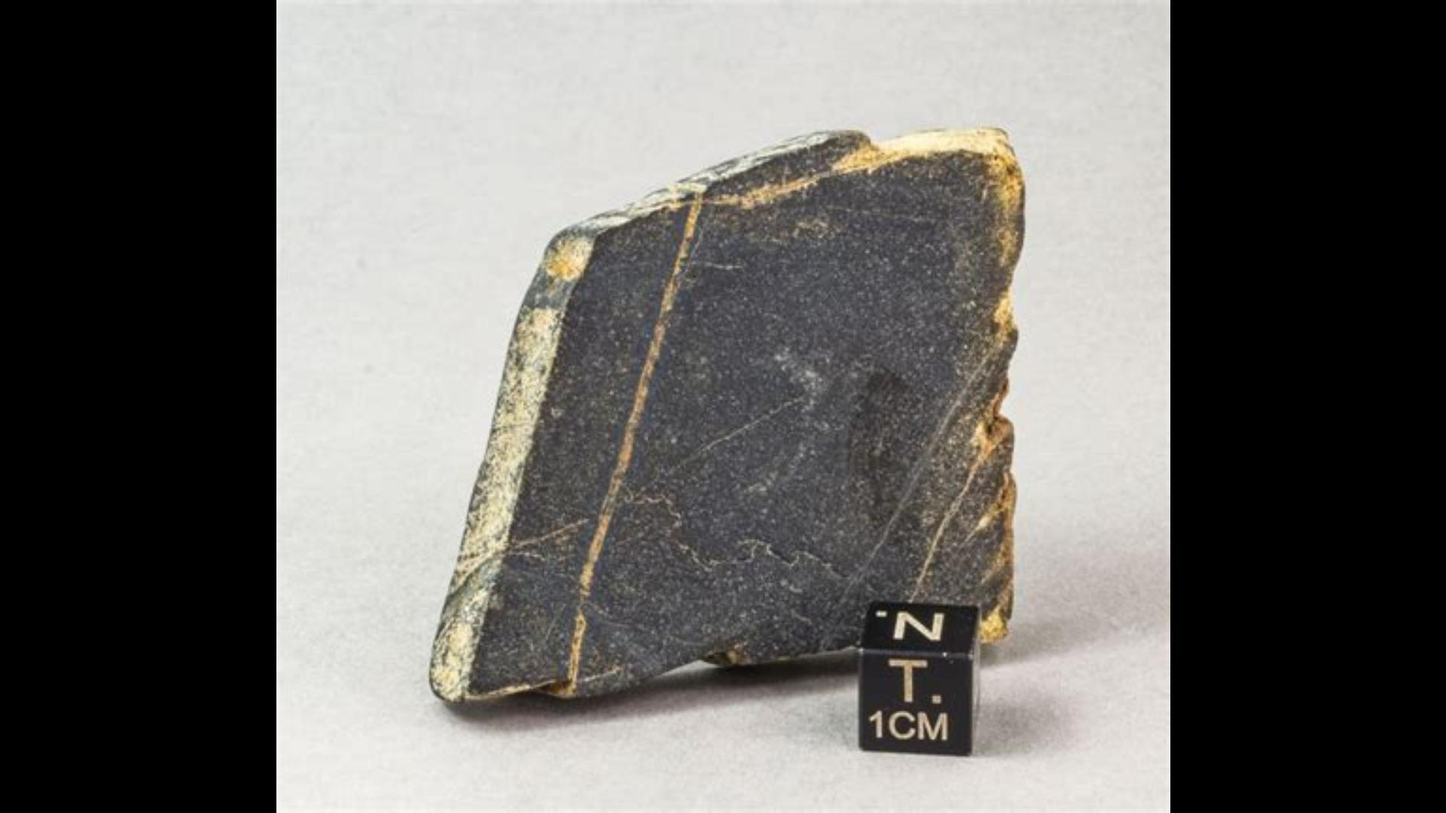rock: (432, 134, 1021, 692)
